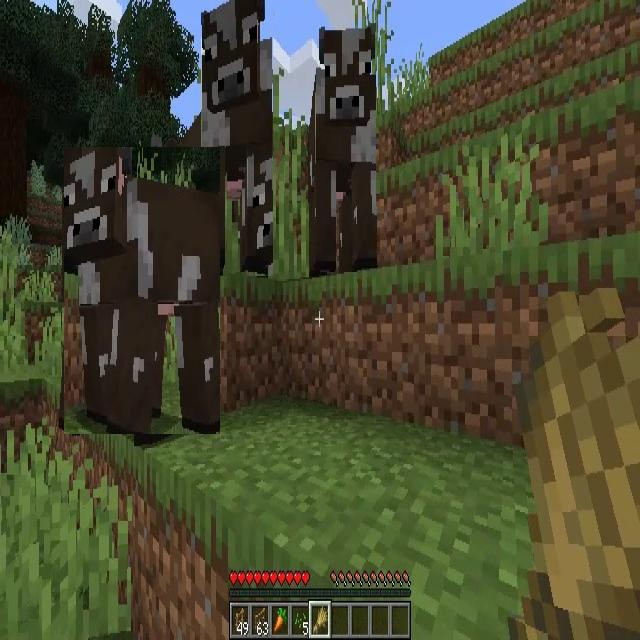cow: (64, 147, 220, 434), (201, 0, 273, 276), (307, 27, 378, 278)
